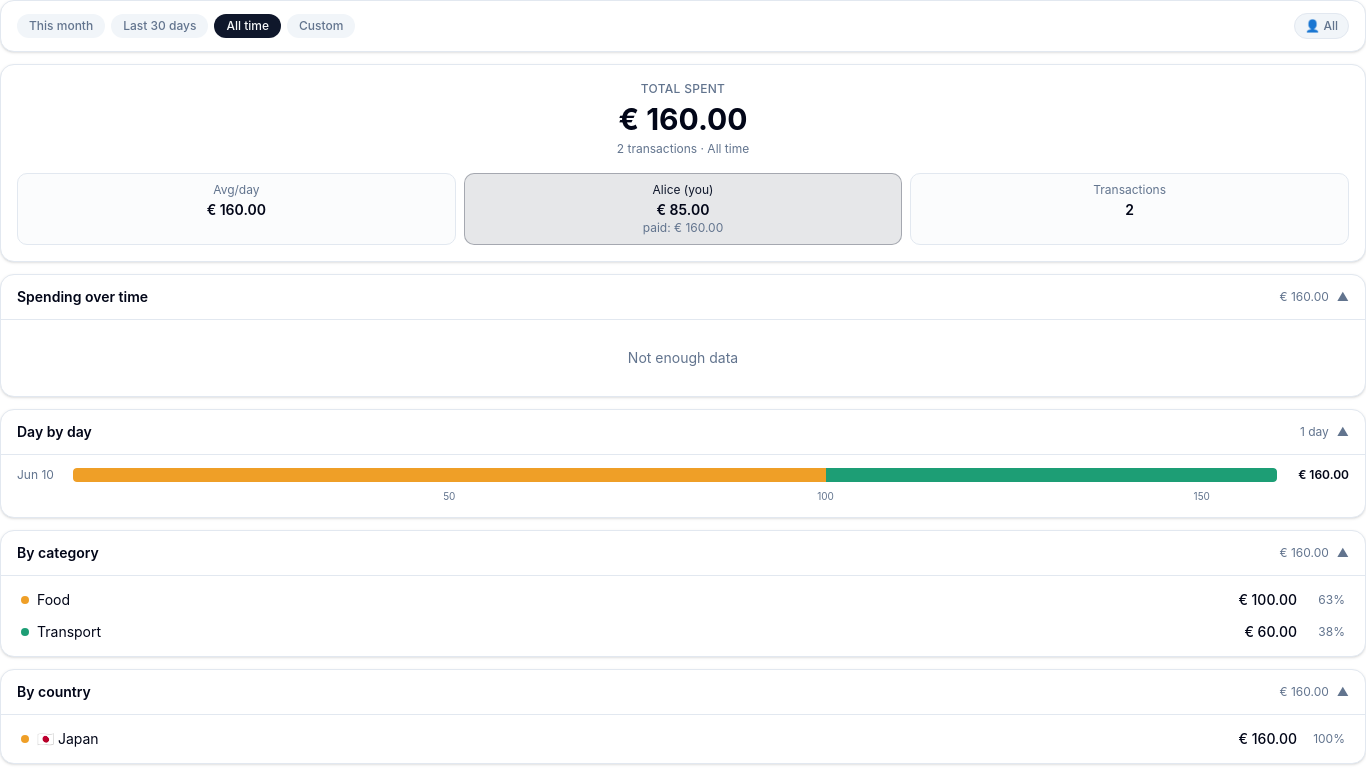
DashboardTab — global controls › selecting another member scopes every card to that member
This screenshot has width=1366, height=768.
Click the button with aria-label "Whose spending": (1322, 26) [1294, 13, 1349, 39]
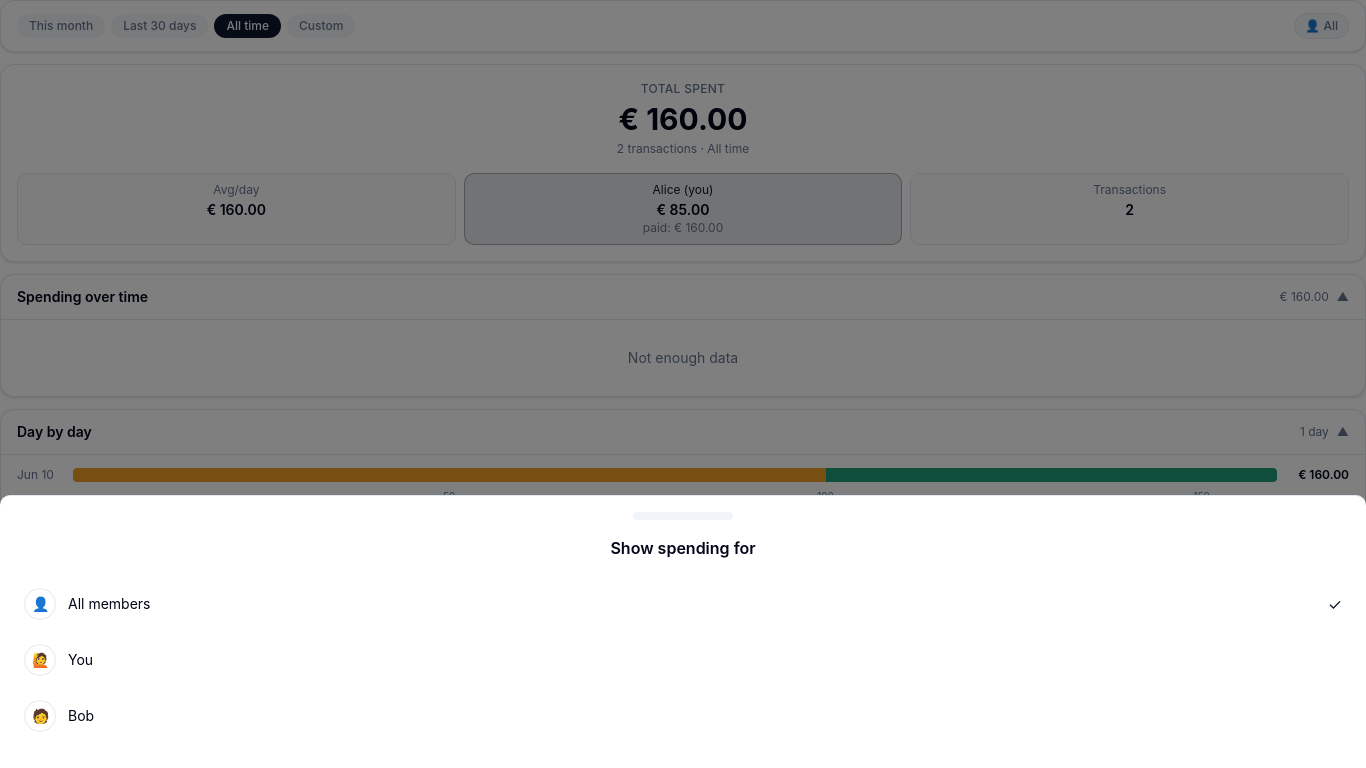
Click the button "🧑 Bob": (40, 716) [16, 688, 1350, 744]
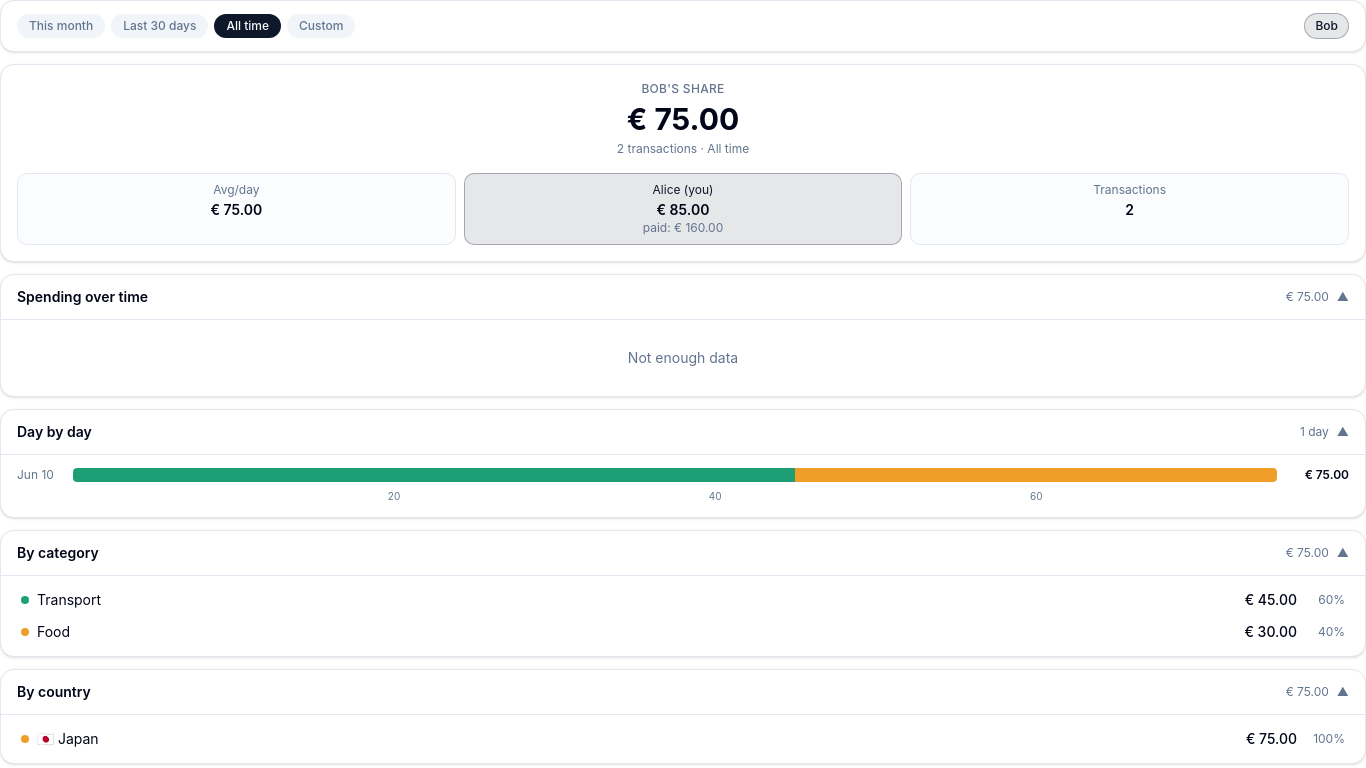
Expected: the text with class "uppercase" reads "Bob's share", [641, 81, 725, 96]
Expected: the text "€ 45.00" is shown, [1245, 590, 1297, 610]
Expected: the text "€ 30.00" is shown, [1244, 622, 1297, 642]
